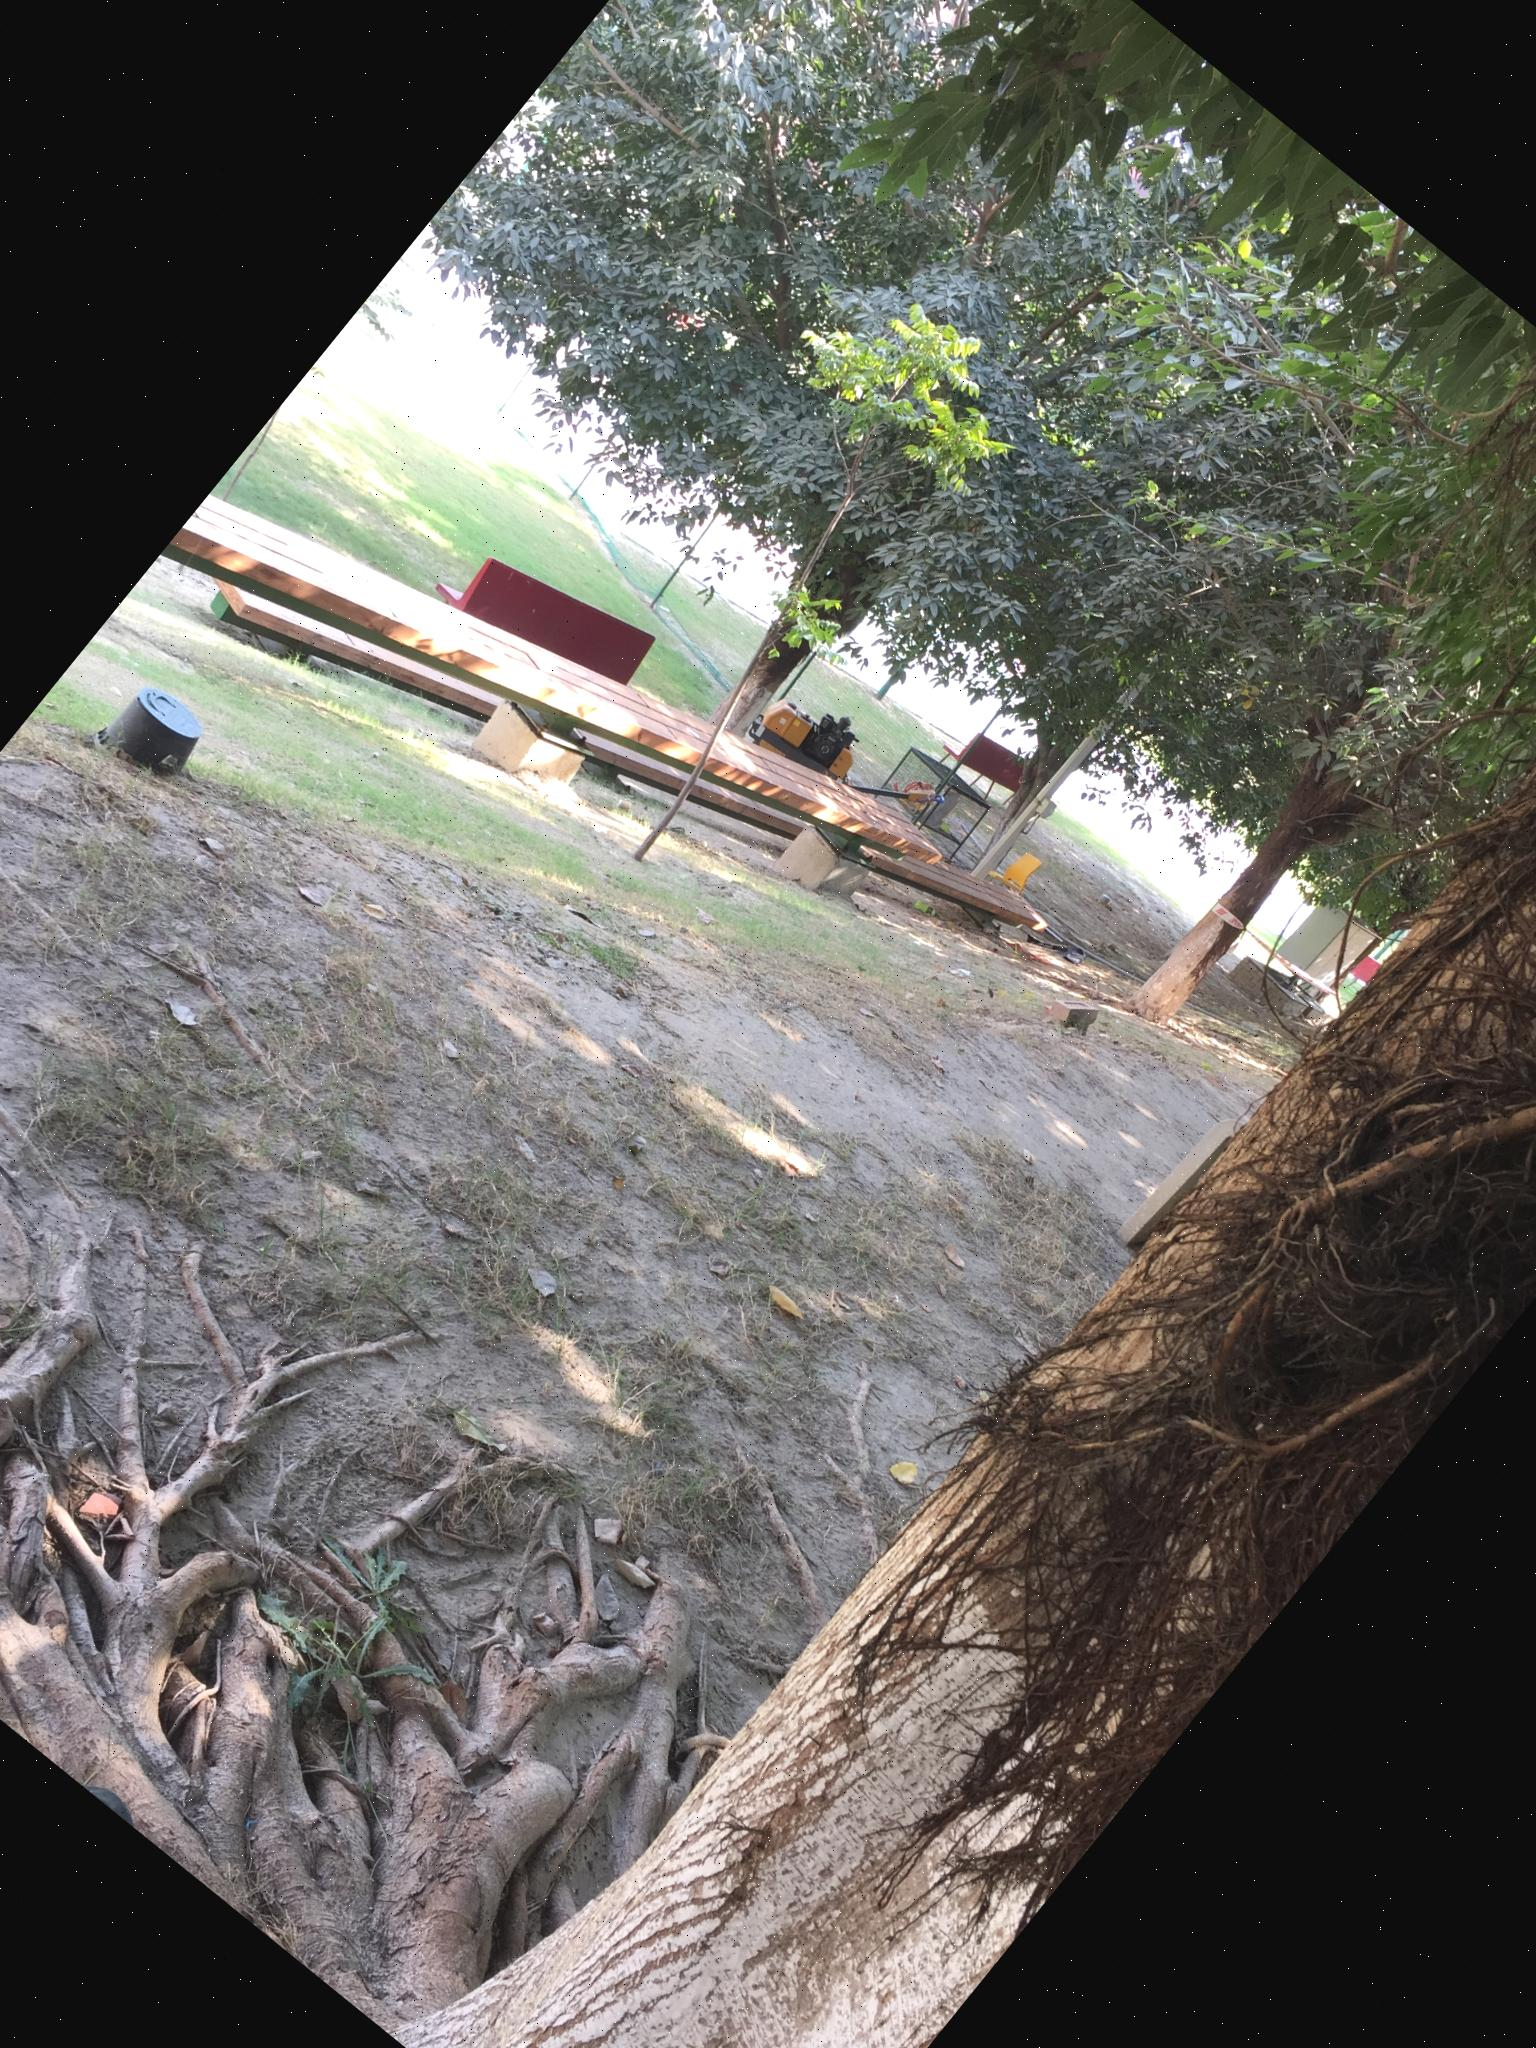chair: (973, 842, 1050, 924)
